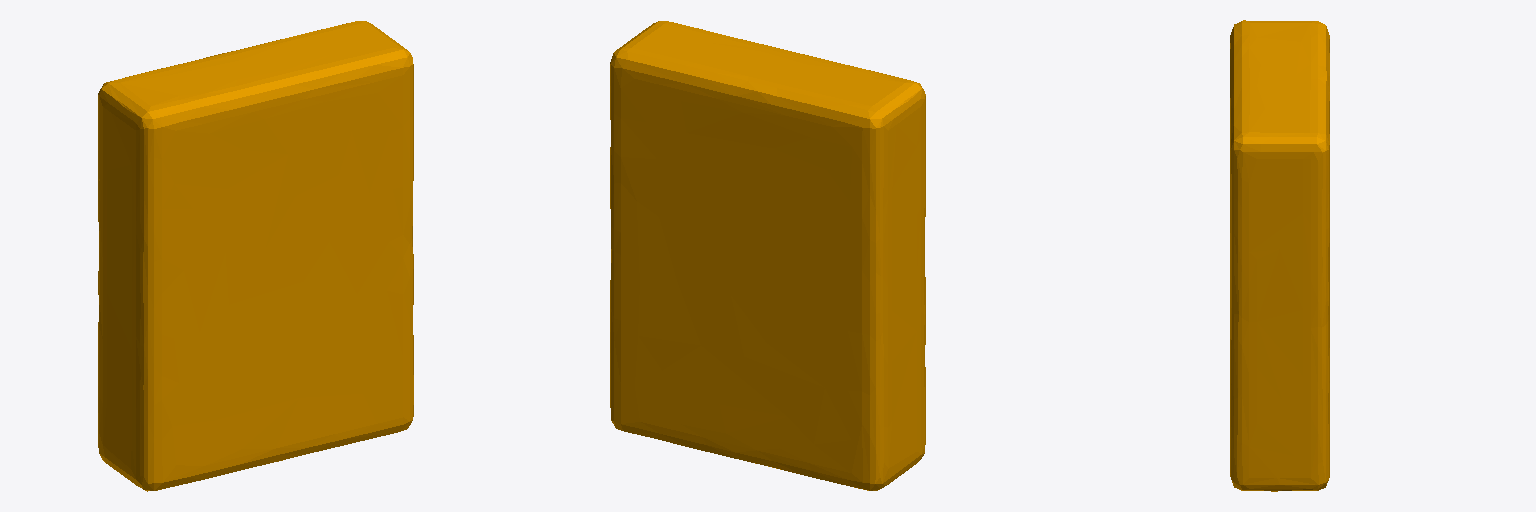
robot.urdf — box_poisson_006:
<?xml version="1.0"?>
<robot name="box_poisson_006">
  <link name="base_link">
    <contact>
      <lateral_friction value="1.0"/>
      <rolling_friction value="0.0"/>
      <contact_cfm value="0.0"/>
      <contact_erp value="1.0"/>
    </contact>
    <inertial>
      <mass value="0.903096142073"/>
      <inertia ixx="1" ixy="0" ixz="0" iyy="1" iyz="0" izz="1"/>
    </inertial>
    <visual>
      <geometry>
        <mesh filename="box_poisson_006_visual.obj"/>
      </geometry>
    </visual>
    <collision>
      <geometry>
        <mesh filename="box_poisson_006_collision.obj"/>
      </geometry>
    </collision>
  </link>
</robot>

--- Render facts (derived) ---
3 views of the same robot in one strip: view 1: azimuth 30°, elevation 25°; view 2: azimuth 150°, elevation 25°; view 3: azimuth 270°, elevation 25° (orthographic).
Model box_poisson_006 with 1 links and 0 joints (none), rooted at base_link, posed all joints at 0.
Links seen in each view (by area): view 1: base_link; view 2: base_link; view 3: base_link.
Boxes of the visible links, x1,y1,x2,y2 form: base_link: (98, 21, 413, 491); base_link: (610, 21, 925, 490); base_link: (1230, 20, 1329, 491).
Bounding box of the posed robot: 0.07 × 0.0237 × 0.0934 m (x, y, z).
1 mesh visuals loaded from 1 distinct referenced files (1 OBJ).